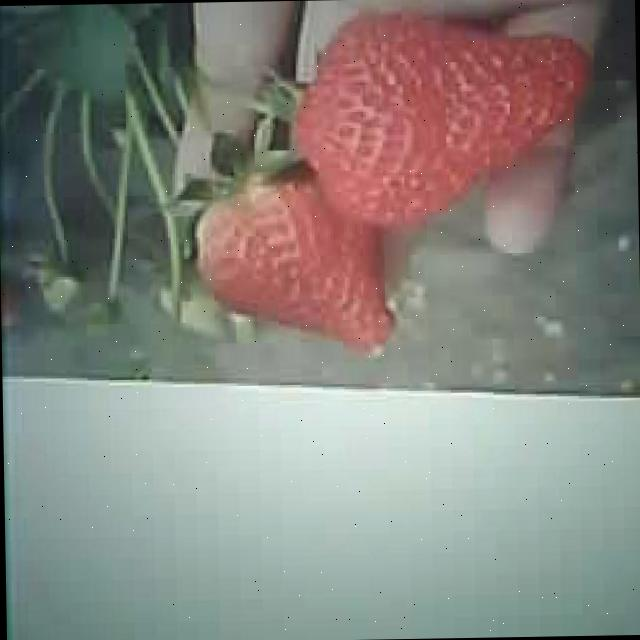strawberry: (295, 8, 590, 226), (196, 162, 388, 350)
